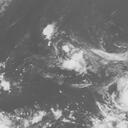cyclone: (44, 24, 93, 75)
